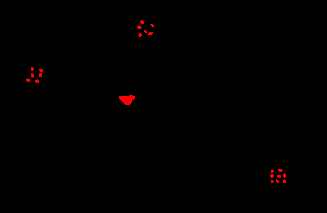Target: (119, 95, 135, 105), (137, 25, 142, 29), (140, 20, 144, 24), (138, 33, 142, 37), (26, 78, 30, 82), (35, 79, 39, 83), (270, 174, 274, 178), (148, 32, 153, 35), (31, 73, 34, 78), (278, 169, 283, 172), (283, 173, 286, 178), (150, 24, 154, 27), (31, 67, 34, 71), (39, 69, 43, 72), (39, 73, 42, 77), (277, 175, 281, 178), (276, 179, 279, 183), (283, 179, 286, 183), (144, 30, 147, 33), (271, 170, 274, 173), (271, 180, 274, 183)
